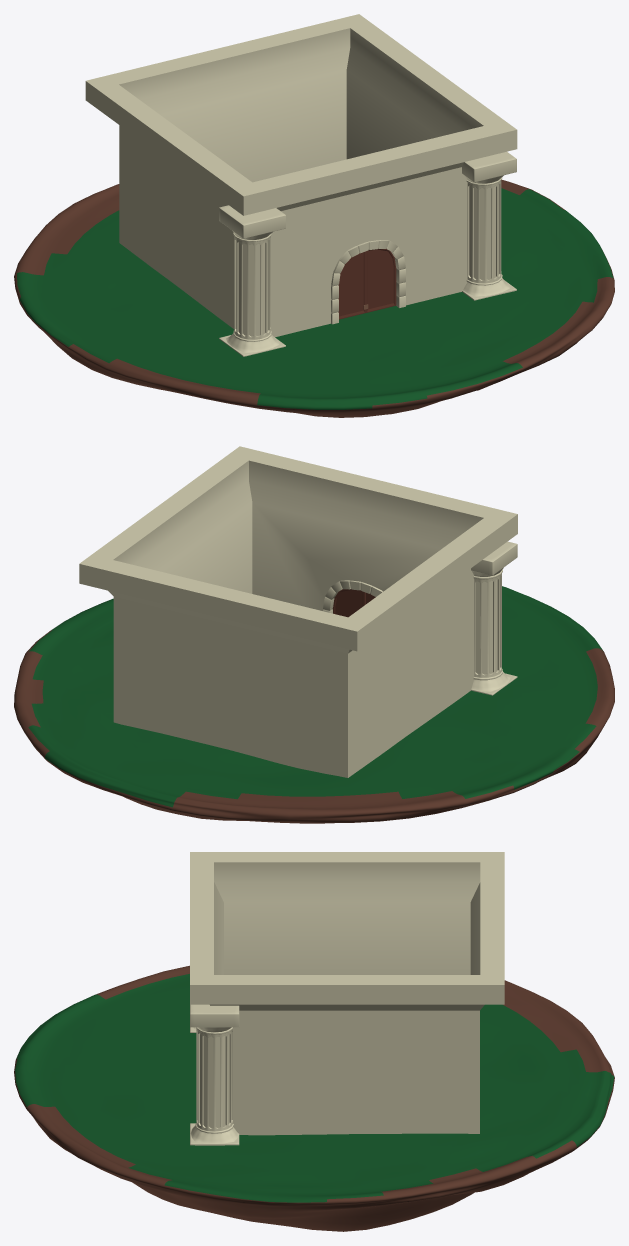
Rendered from lyposbosscastle.fbx.
3 renders of one model, top to bottom at view 1: azimuth 30°, elevation 25°; view 2: azimuth 150°, elevation 25°; view 3: azimuth 270°, elevation 25°, orthographic. The views are drawn at different scales.
Visible parts, largest first — view 1: LyposCastle, BossCastle_Island, CastleDoor_Right, CastleDoor_Left; view 2: LyposCastle, BossCastle_Island, CastleDoor_Right; view 3: LyposCastle, BossCastle_Island.
Boxes of the visible parts, bbox=[...] form: LyposCastle: bbox=[85, 14, 517, 356]; BossCastle_Island: bbox=[14, 180, 614, 417]; CastleDoor_Right: bbox=[366, 248, 396, 312]; CastleDoor_Left: bbox=[338, 251, 365, 319]; LyposCastle: bbox=[79, 446, 517, 777]; BossCastle_Island: bbox=[14, 586, 614, 823]; CastleDoor_Right: bbox=[332, 589, 363, 617]; LyposCastle: bbox=[190, 852, 504, 1145]; BossCastle_Island: bbox=[14, 965, 614, 1231].
Bounding box in the file's own units: 182 × 88.95 × 185.
